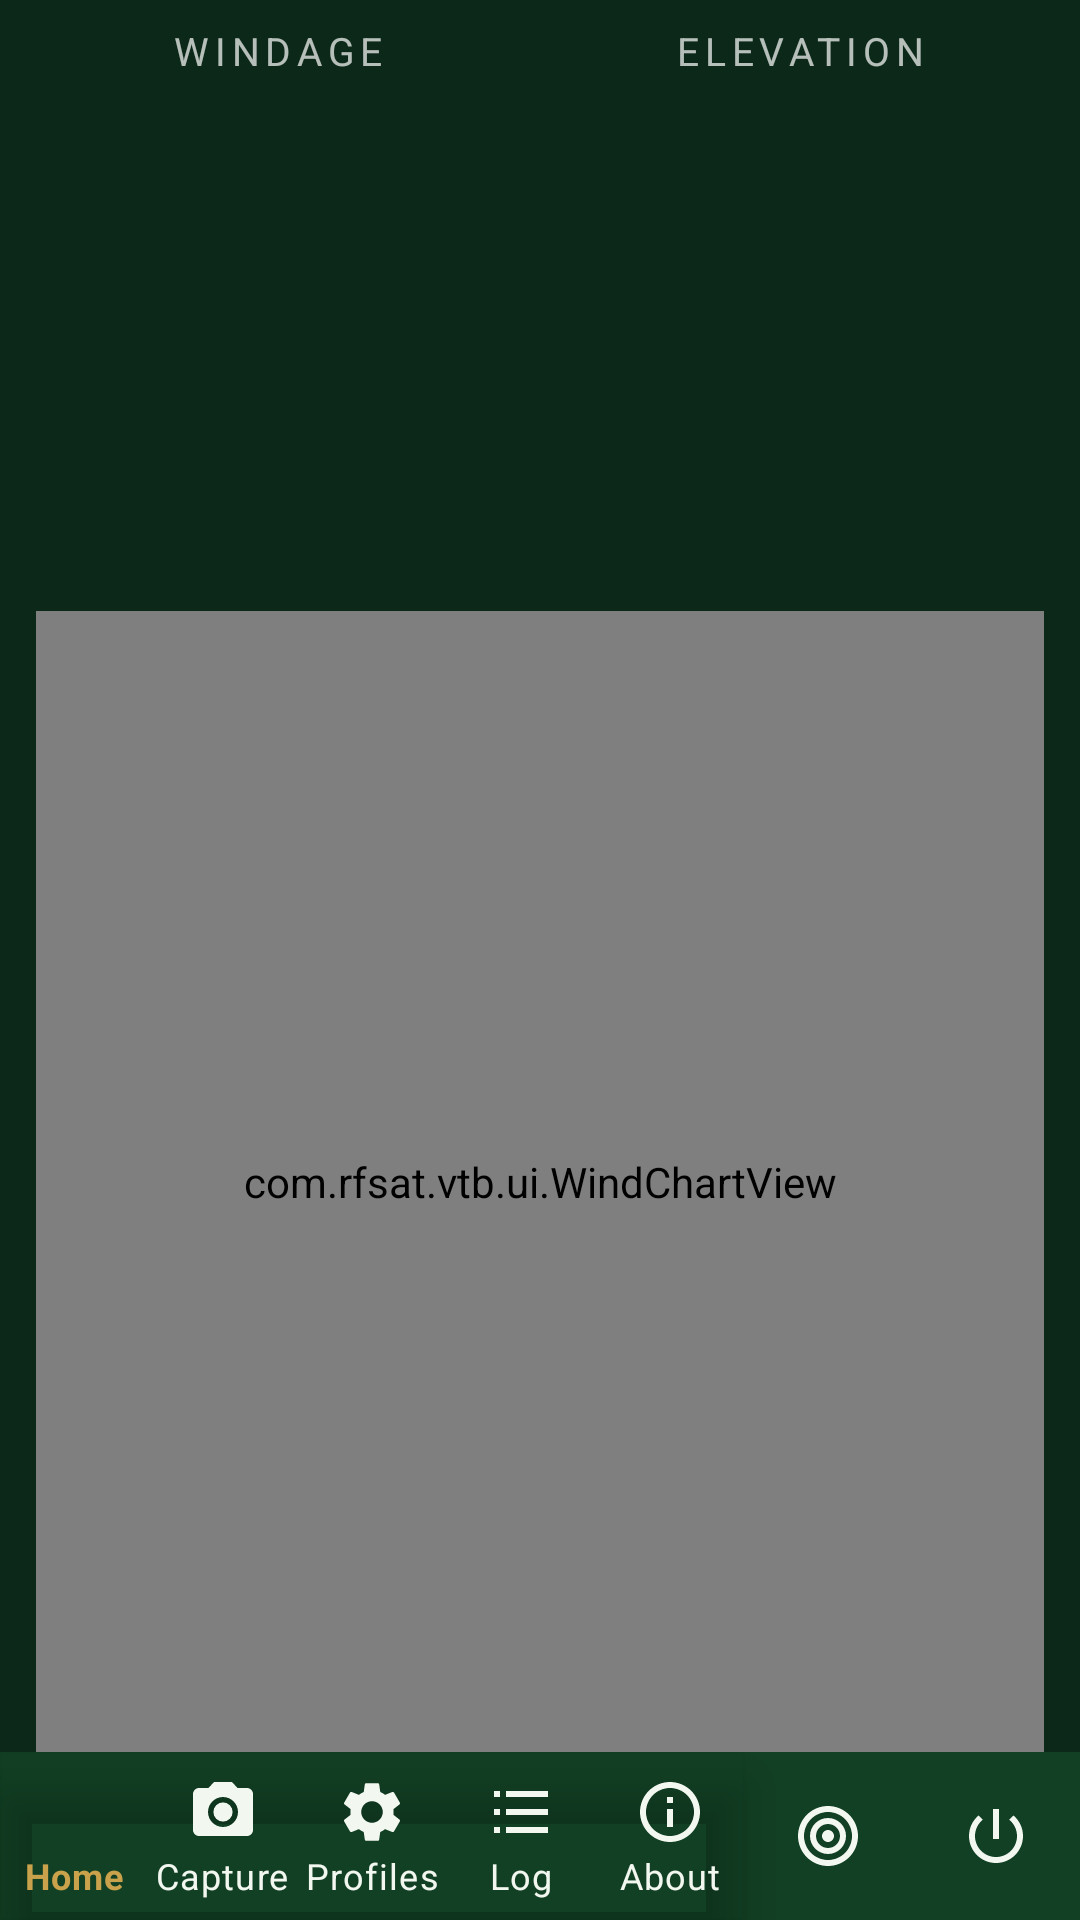

Icon click points for this 1080px×1920px phone screenshot, format [x,y]:
exit: [996,1836]
